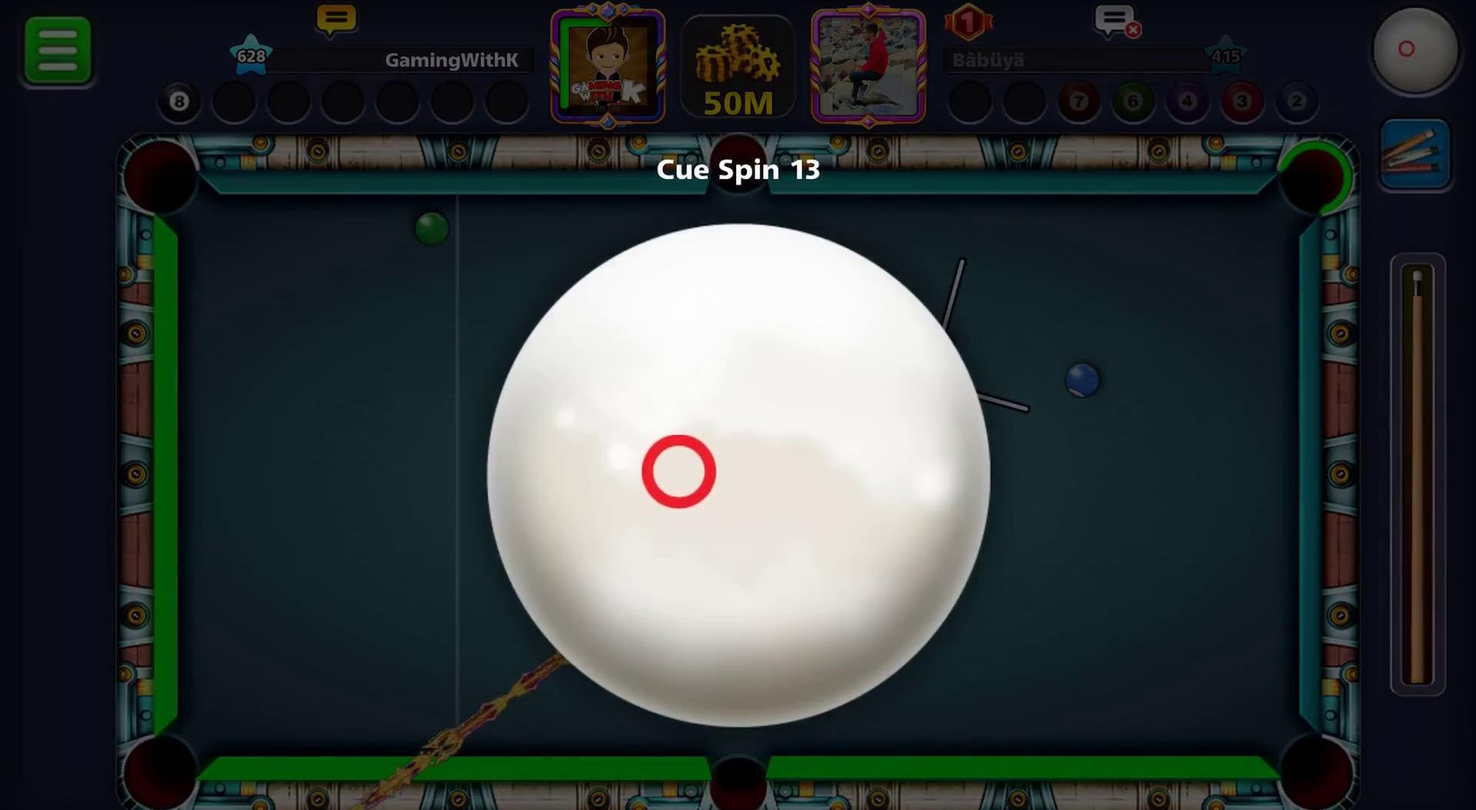Ball: (1059, 359, 1106, 408), (408, 210, 451, 249)
Force: (1389, 254, 1454, 701)
Hole: (91, 709, 231, 810), (1250, 703, 1382, 810), (103, 125, 212, 230), (1265, 127, 1364, 231), (686, 713, 778, 810), (704, 120, 794, 218)
Play_Area: (179, 196, 1301, 757)
Spin: (471, 223, 1001, 736), (1362, 0, 1476, 110)
